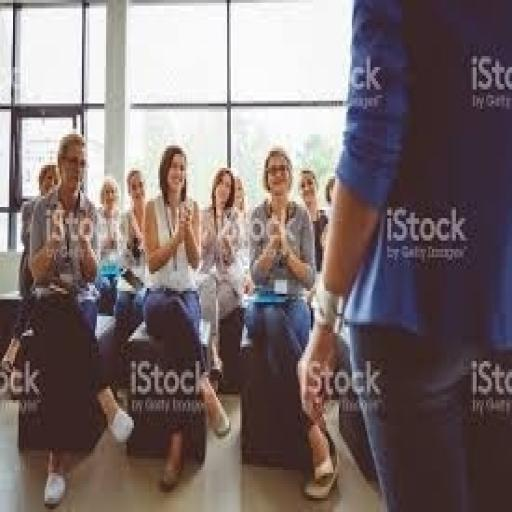clapping: (19, 129, 134, 509), (240, 145, 339, 501), (138, 143, 227, 492), (195, 165, 246, 395)
